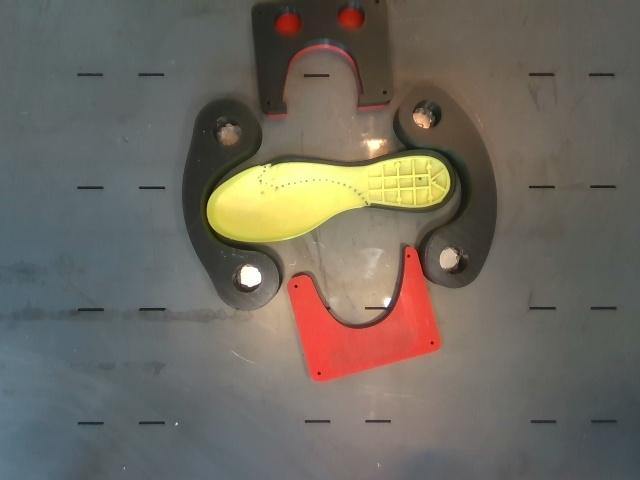shoes: (206, 150, 455, 242)
